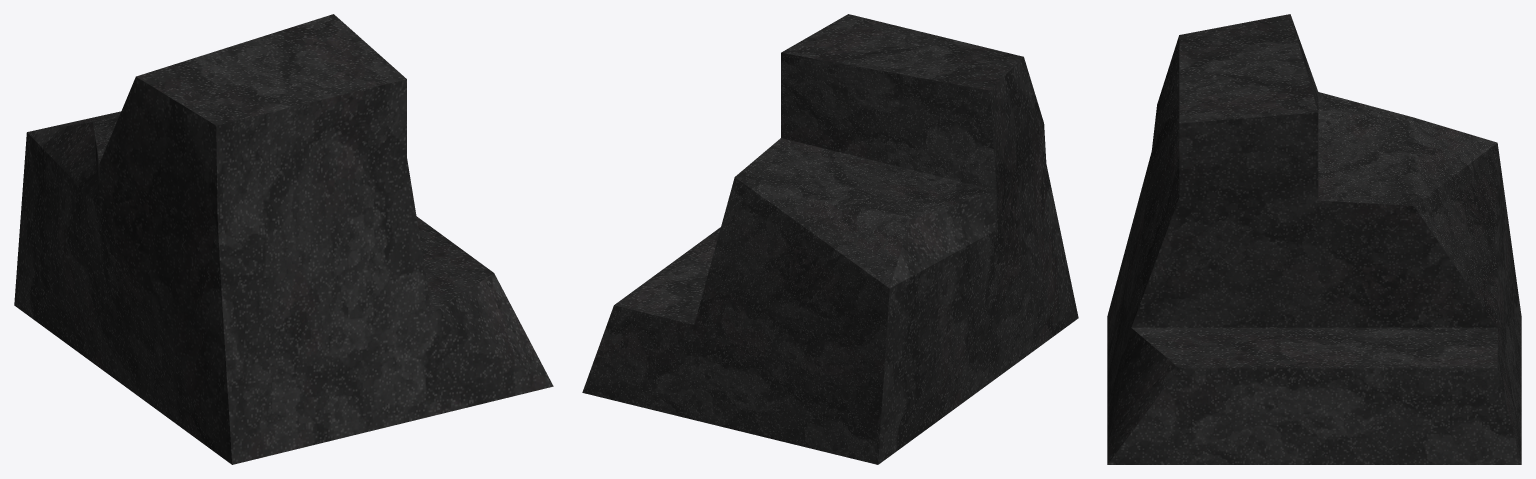
The model's file is rock_4.fbx.
The picture shows the model from 3 angles, left to right: view 1: azimuth 30°, elevation 25°; view 2: azimuth 150°, elevation 25°; view 3: azimuth 270°, elevation 25°; orthographic projection. The views are drawn at different scales.
Visible parts, largest first — view 1: Rock4.001; view 2: Rock4.001; view 3: Rock4.001.
Part boxes in pixels (x1,y1,x2,y2): Rock4.001: (14,14,553,464); Rock4.001: (582,14,1078,464); Rock4.001: (1107,14,1521,464).
Bounding box in the file's own units: 788 × 697 × 866.
